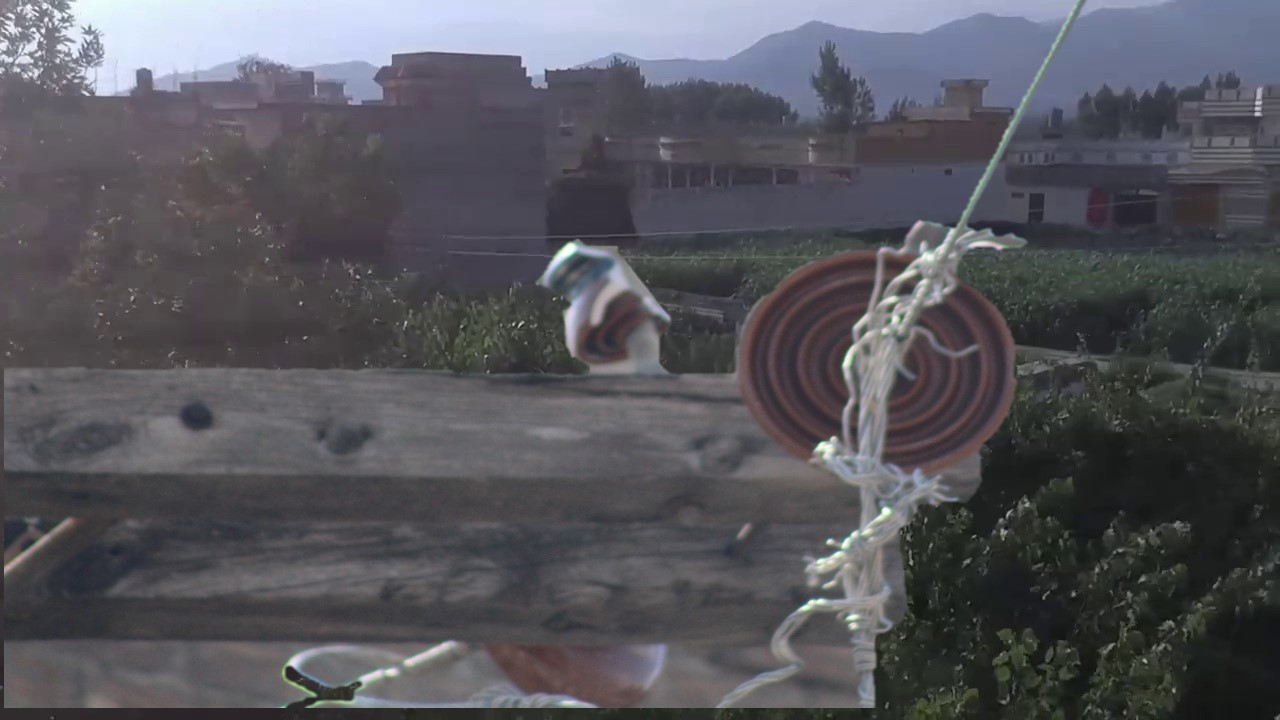defect_pin: (533, 226, 680, 384)
insulator_disc: (731, 239, 1028, 485)
